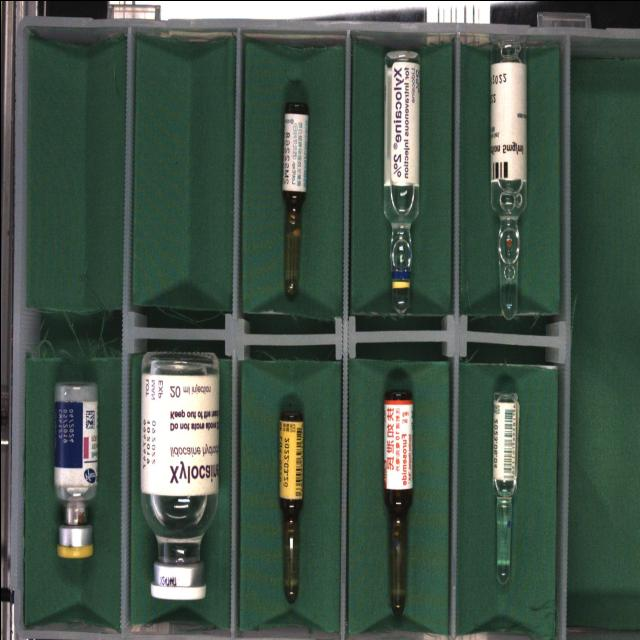Vials: (140, 351, 219, 599), (53, 381, 97, 558)
